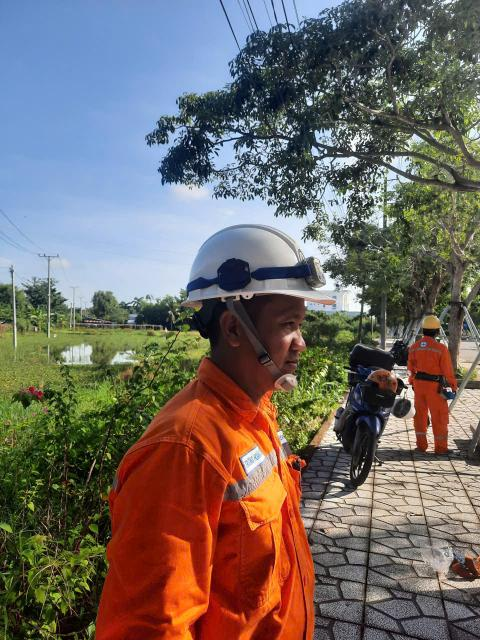gloves: (451, 389, 461, 399)
harness: (411, 367, 448, 385)
helmet: (171, 212, 348, 332), (417, 311, 444, 331)
